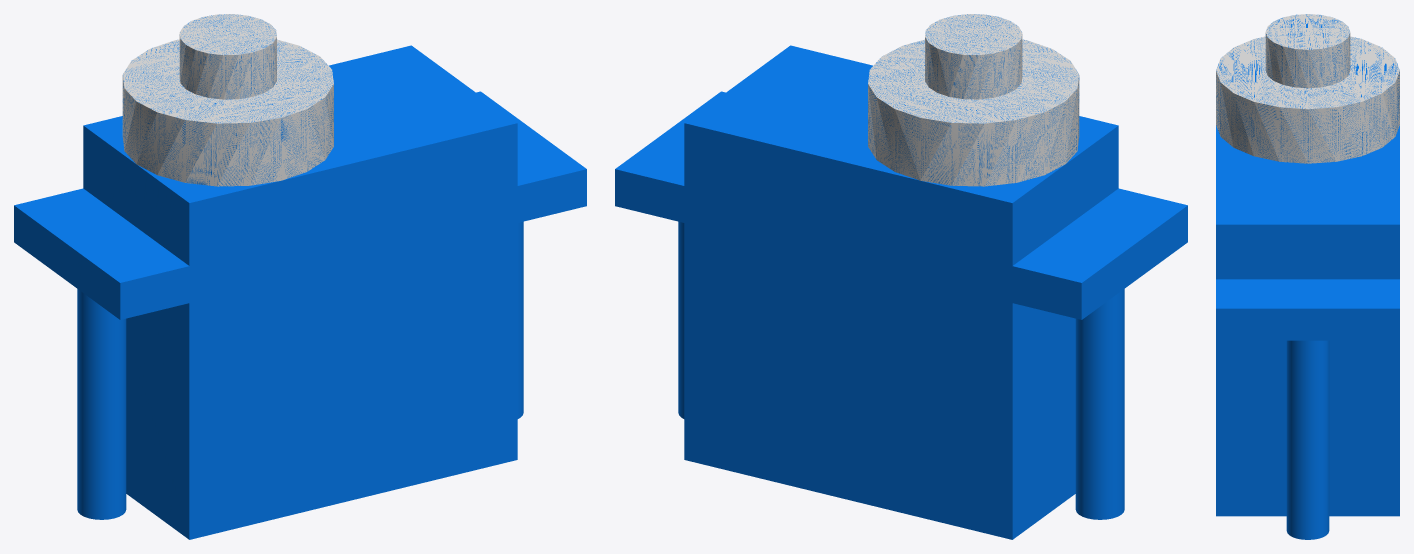
File: servo.dae
3 renders of one model, left to right at view 1: azimuth 30°, elevation 25°; view 2: azimuth 150°, elevation 25°; view 3: azimuth 270°, elevation 25°, orthographic. The views are drawn at different scales.
Parts seen in each view (by area): view 1: SG90 (×4); view 2: SG90 (×4); view 3: SG90 (×4).
Boxes of the visible parts, x1=… form: SG90 (×4): x1=14, y1=14, x2=586, y2=539; SG90 (×4): x1=615, y1=14, x2=1187, y2=539; SG90 (×4): x1=1216, y1=14, x2=1399, y2=539.
Size of the model in its own units: 1.3 by 0.5118 by 1.18.
